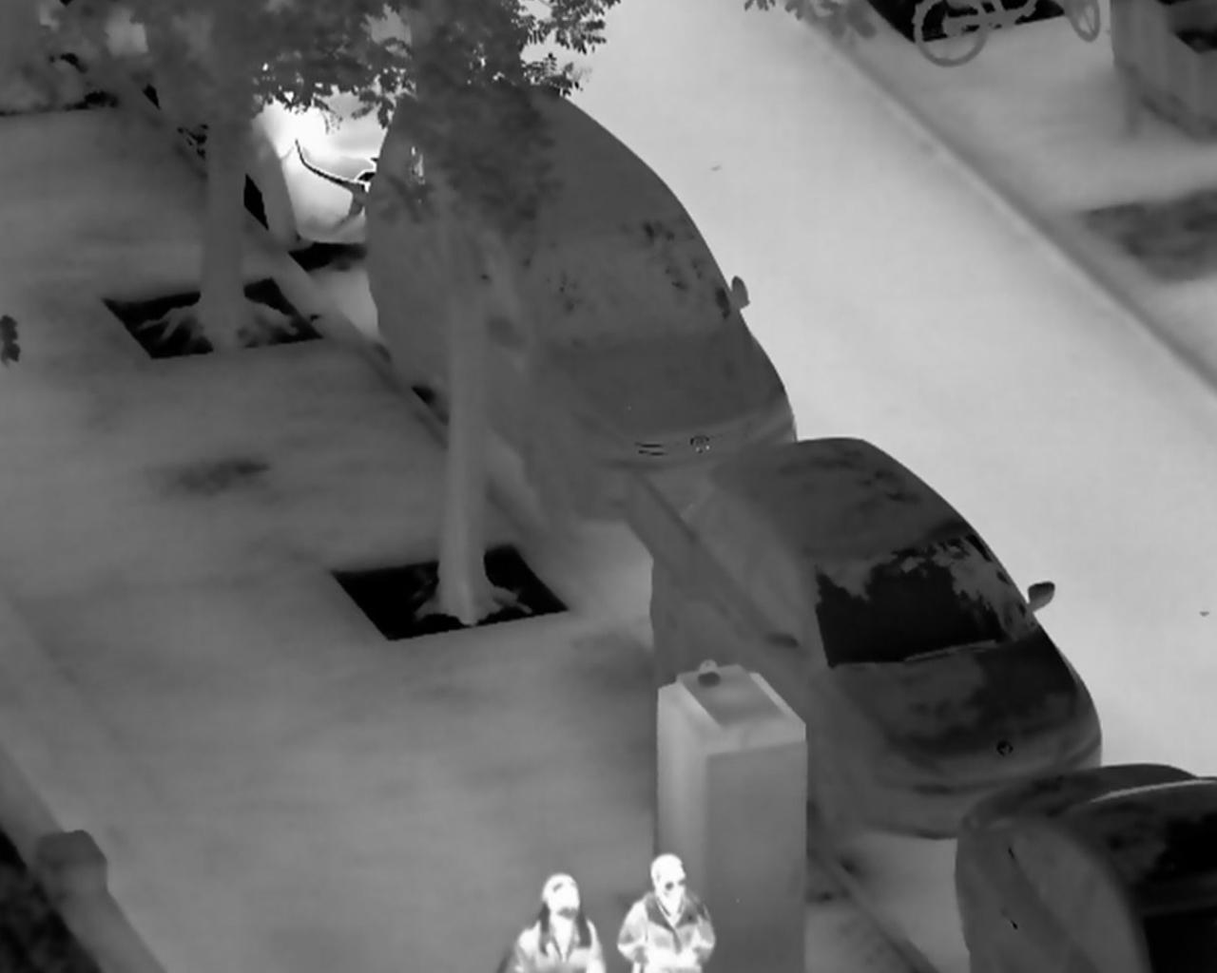person: (617, 854, 715, 973), (503, 874, 608, 973)
